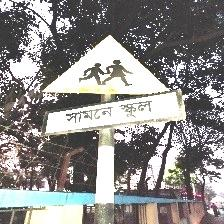School-in-front: (40, 36, 181, 135)
